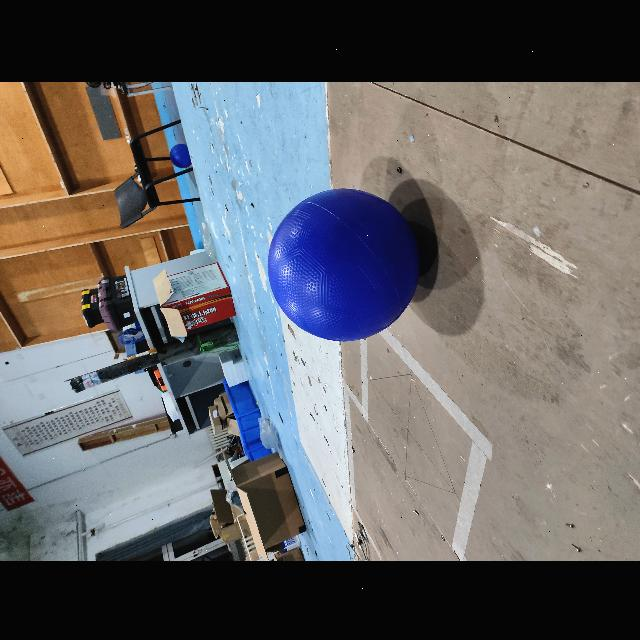B: (266, 186, 420, 342), (170, 142, 194, 166)
